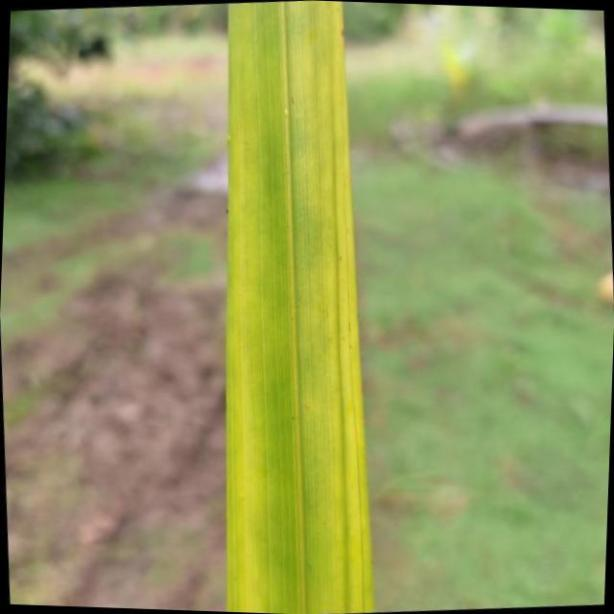nitrogen: (224, 0, 371, 614)
